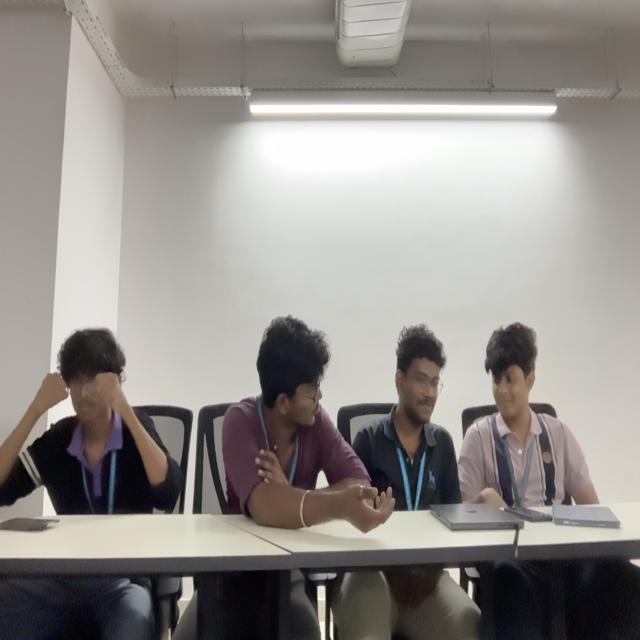Isolated: (0, 324, 183, 513)
socializing: (220, 319, 604, 530)
